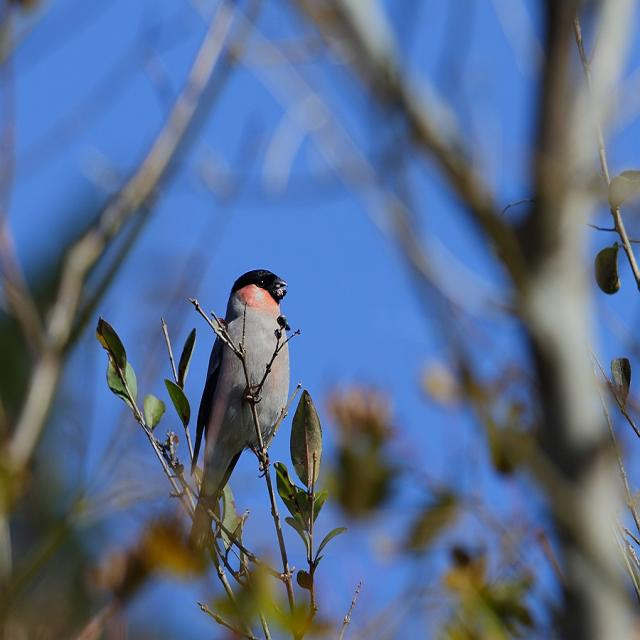bird: (191, 272, 303, 548)
